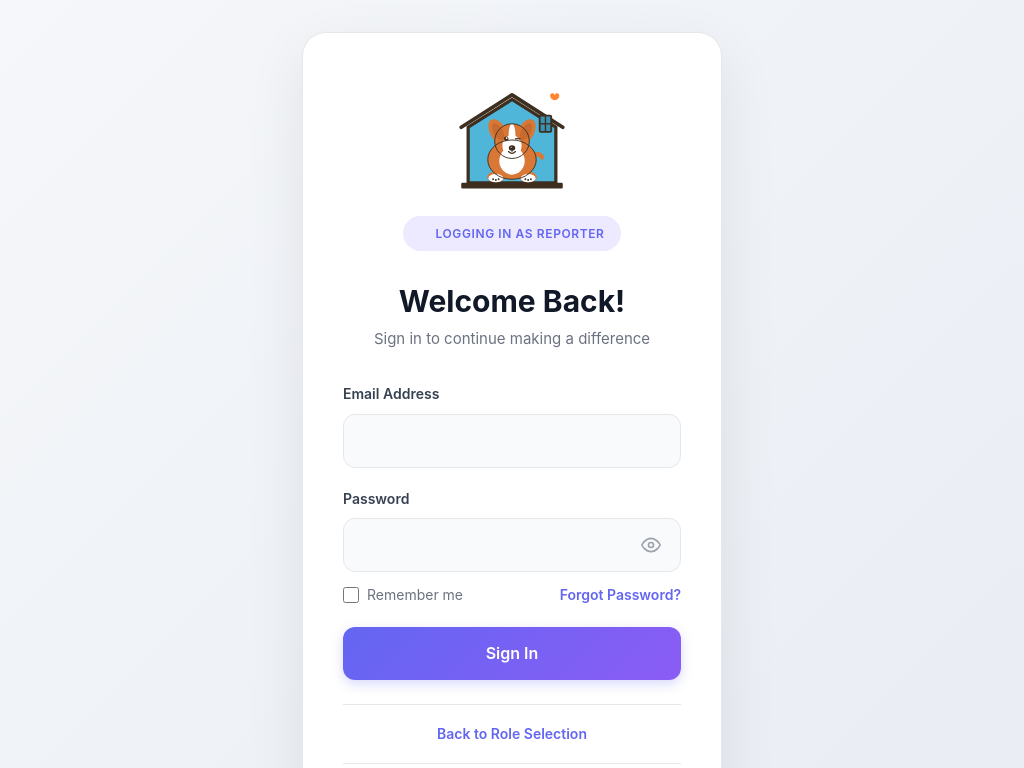
Scenario: Login Component › should display validation errors for empty form submission
Step 1. Click the button "Sign In" → (512, 653), box [343,626,681,680]
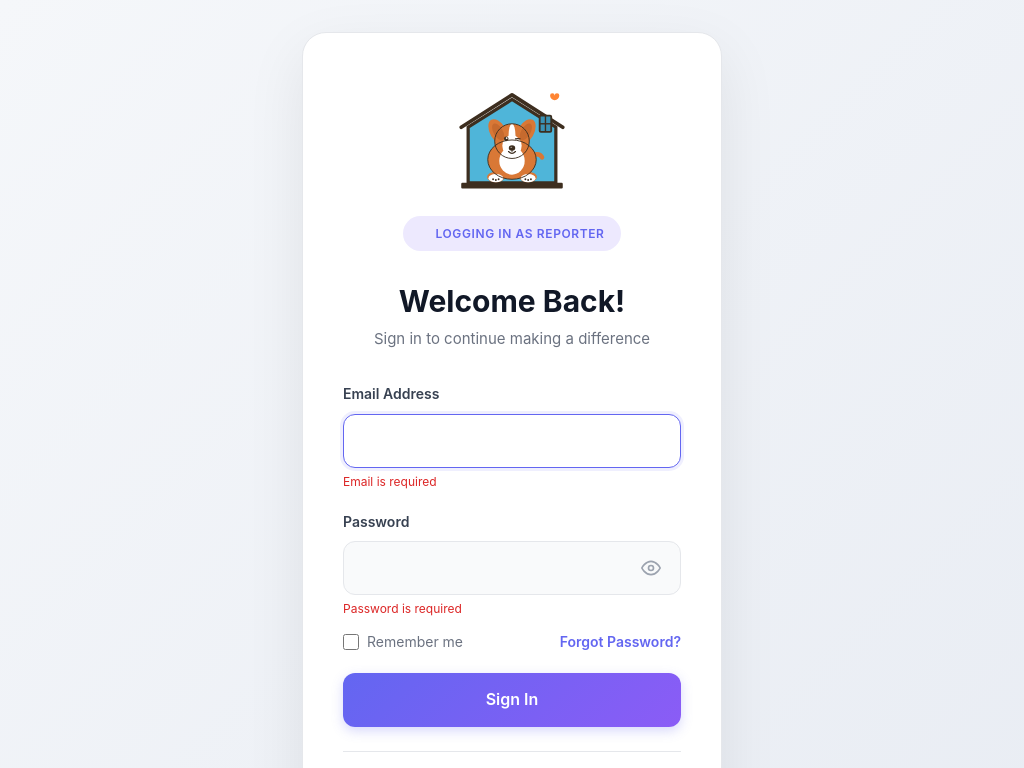
Expected: the text "Email is required" is shown, [343,474,437,489]
